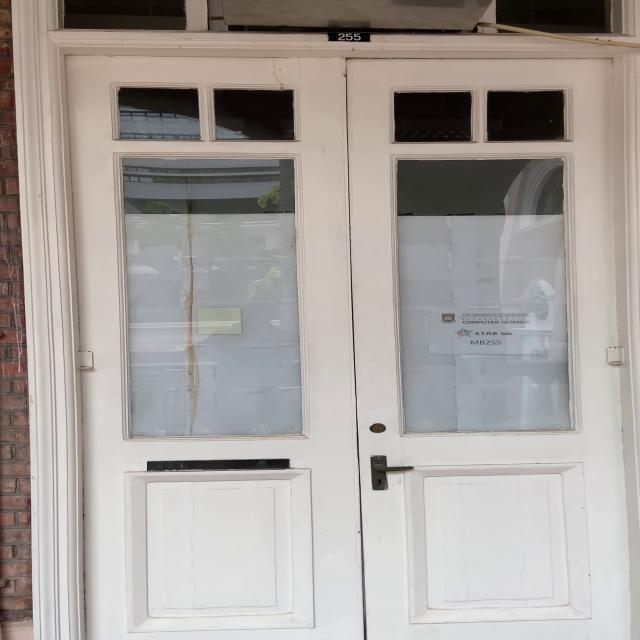room255: (327, 31, 371, 42)
